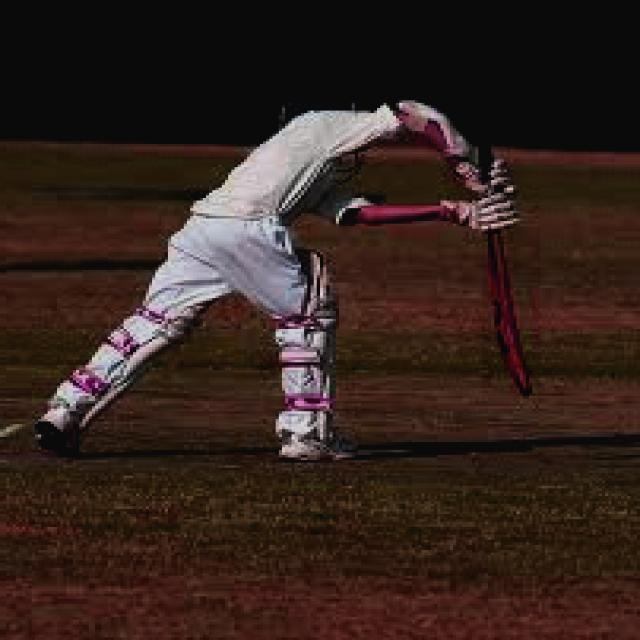bat: (480, 223, 544, 406)
toe: (505, 378, 541, 399)
